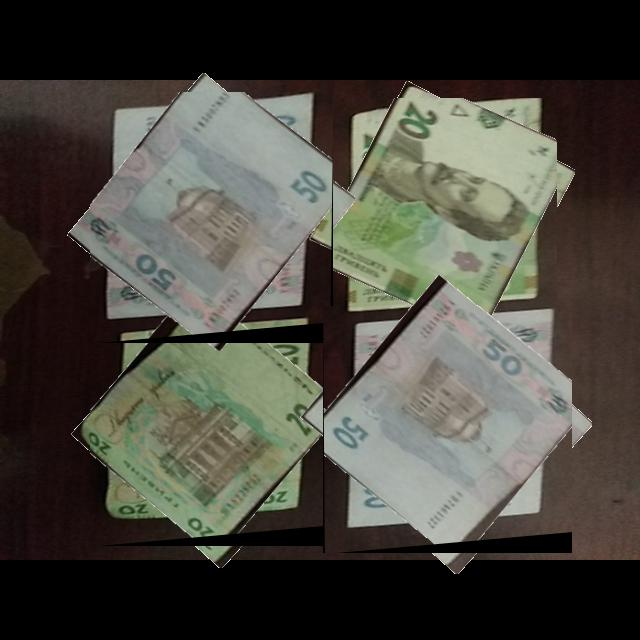20uah: (90, 317, 328, 547), (330, 98, 558, 332)
50uah: (323, 306, 573, 554), (90, 92, 334, 344)
